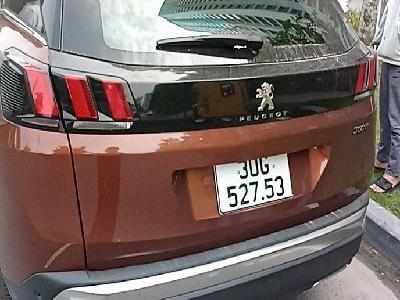car: (212, 151, 295, 217)
